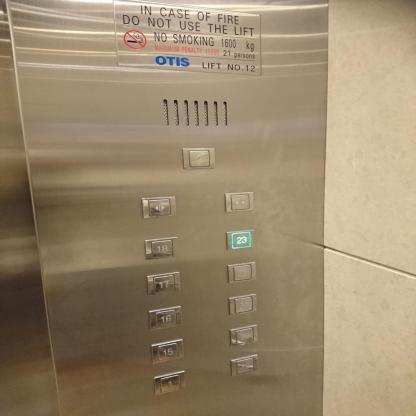1: (153, 370, 186, 396)
15: (150, 338, 186, 364)
16: (147, 304, 184, 330)
17: (143, 271, 184, 296)
18: (144, 236, 181, 260)
19: (229, 353, 259, 378)
20: (229, 323, 259, 348)
21: (228, 293, 259, 316)
22: (225, 261, 258, 283)
23: (224, 229, 258, 251)
alarm: (180, 147, 216, 170)
close: (222, 191, 256, 213)
open: (140, 196, 178, 219)
